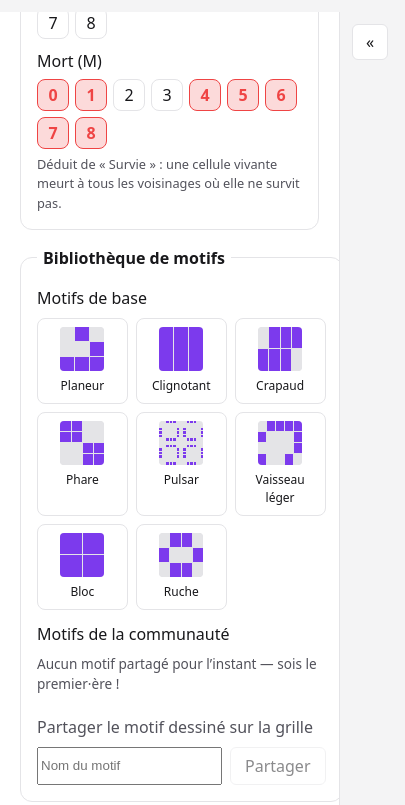
App › arms a pattern from the library, shows a hint, and Escape cancels it
(page scrolled)
Click the button "Bloc": (82, 567) [37,524,128,610]
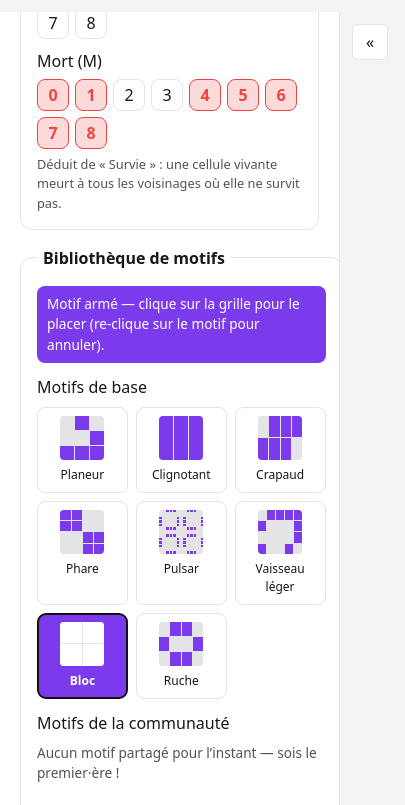
Expected: the text "Motif armé" is shown, [47,294,300,354]
Press Escape
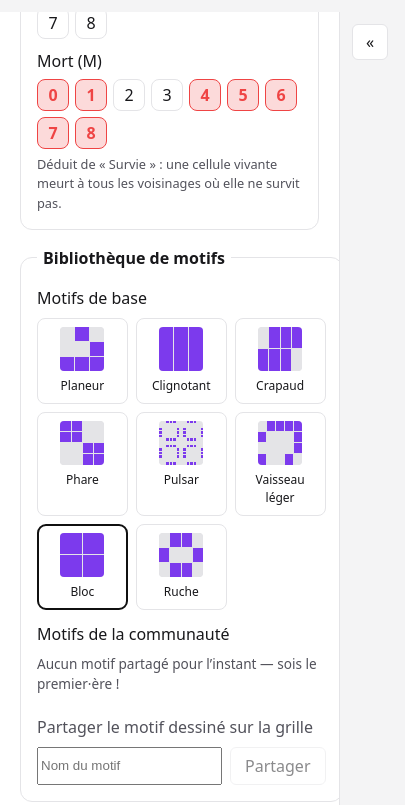
Expected: the text "Motif armé" is gone
